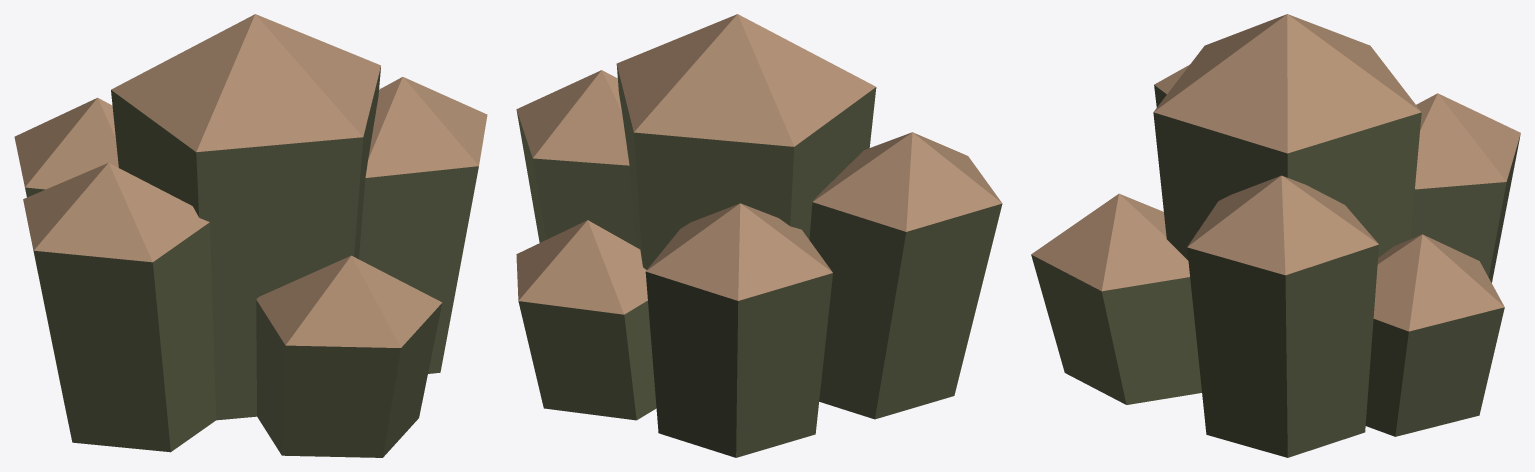
Rendered from TB_D_Env_CactusI_C.FBX.
3 views of the same model, side by side, from view 1: azimuth 30°, elevation 25°; view 2: azimuth 150°, elevation 25°; view 3: azimuth 270°, elevation 25° (orthographic). The views are drawn at different scales.
Parts seen in each view (by area): view 1: TB_D_Env_CactusI_C; view 2: TB_D_Env_CactusI_C; view 3: TB_D_Env_CactusI_C.
Boxes of the visible parts, x1,y1,x2,y2 form: TB_D_Env_CactusI_C: [14, 14, 487, 457]; TB_D_Env_CactusI_C: [516, 14, 1002, 457]; TB_D_Env_CactusI_C: [1031, 14, 1520, 457].
Bounding box in the file's own units: 0.4077 × 0.2949 × 0.3711.
